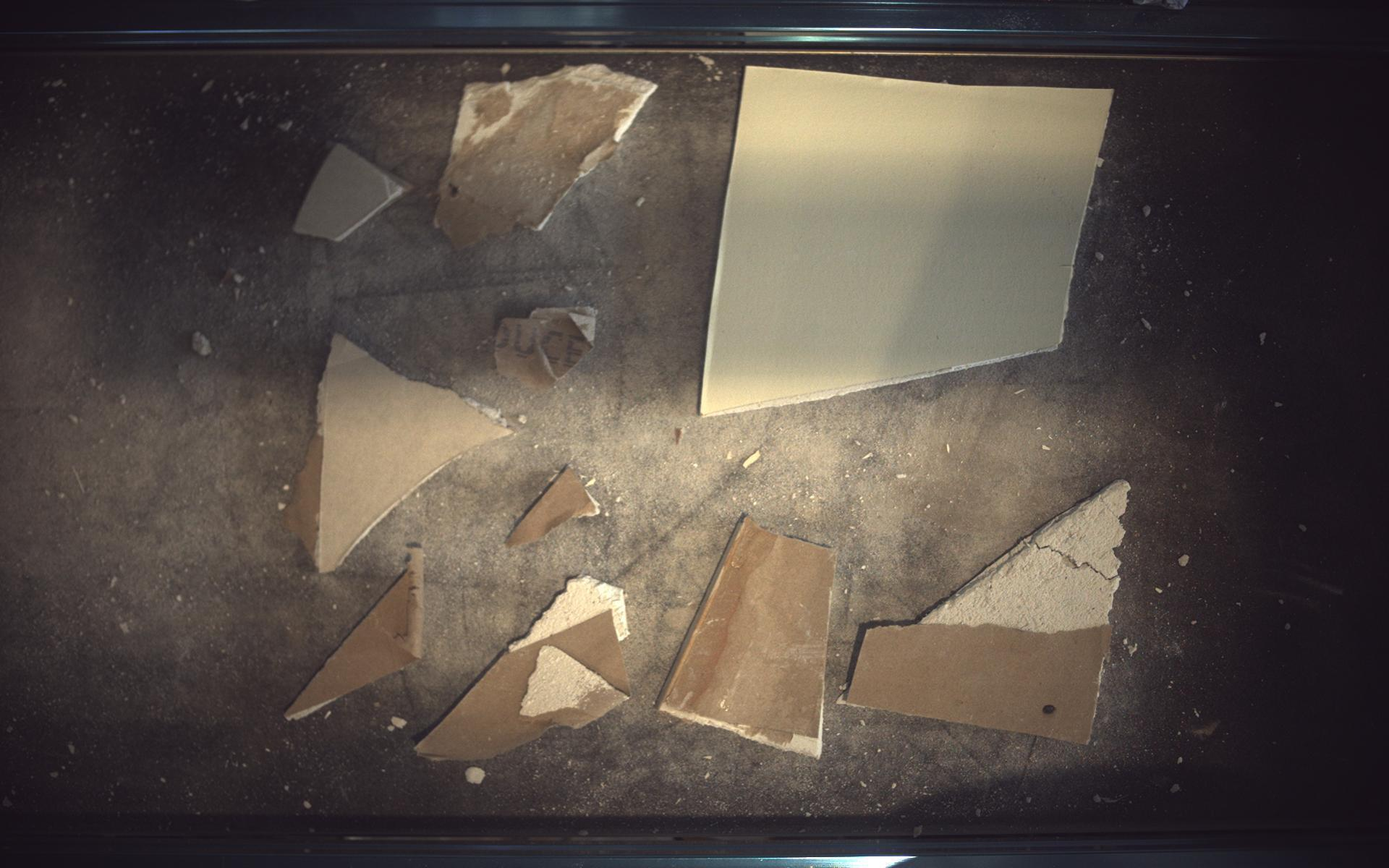gypsum_board: (701, 66, 1115, 415), (847, 480, 1133, 745), (282, 334, 513, 573), (659, 516, 837, 759), (434, 62, 657, 246), (416, 577, 629, 761), (284, 546, 424, 721), (293, 142, 412, 241), (495, 307, 597, 390), (507, 467, 600, 548)
